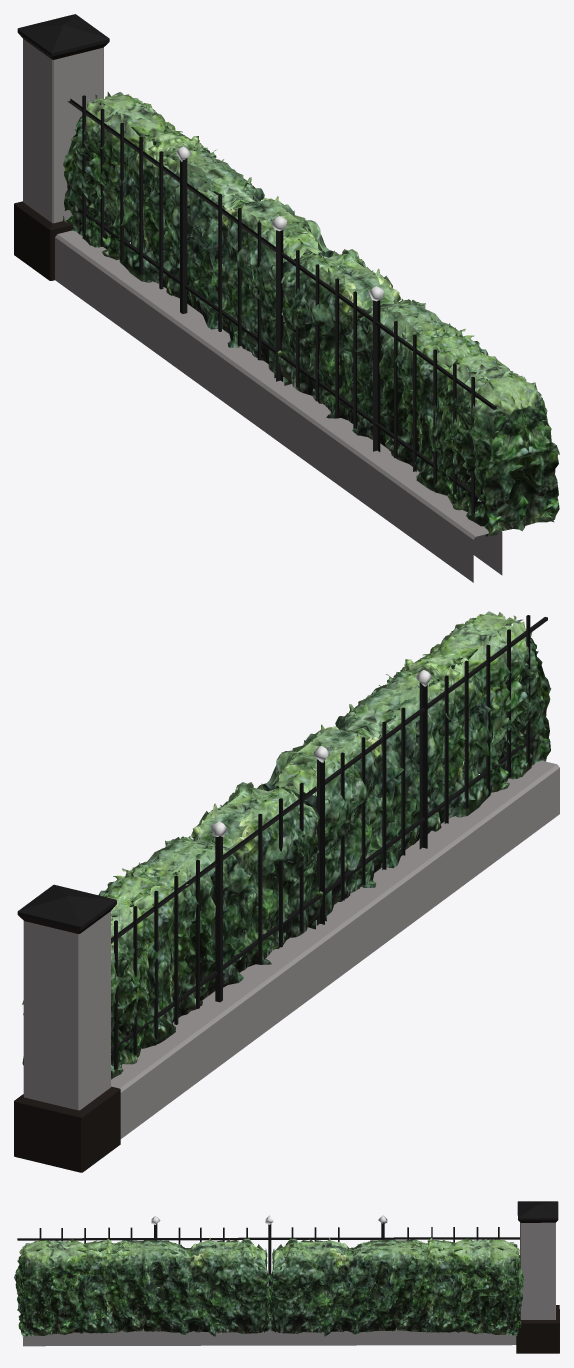
Rendered from hedge_green_fence.glb.
The picture shows the model from 3 angles, top to bottom: view 1: azimuth 30°, elevation 25°; view 2: azimuth 150°, elevation 25°; view 3: azimuth 270°, elevation 25°; orthographic projection. The views are drawn at different scales.
Parts seen in each view (by area): view 1: LONG skinny 1 mesh hedge; view 2: LONG skinny 1 mesh hedge; view 3: LONG skinny 1 mesh hedge.
Part boxes in pixels (<box>): LONG skinny 1 mesh hedge: <box>14,14,559,582</box>; LONG skinny 1 mesh hedge: <box>14,611,559,1172</box>; LONG skinny 1 mesh hedge: <box>14,1201,559,1353</box>.
Size of the model in its own units: 83.12 by 194 by 686.
5 materials, 1 textured.
